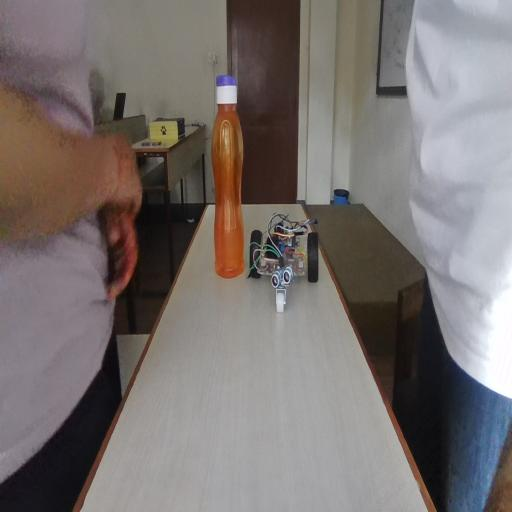Bottle: (215, 73, 247, 227)
car: (263, 199, 319, 317)
